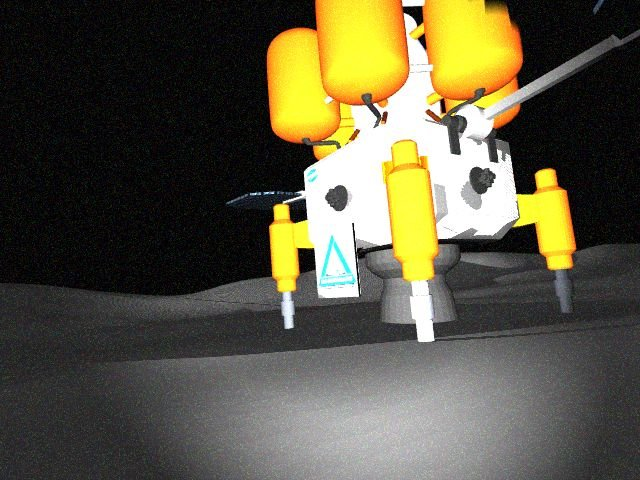basemarker: (318, 234, 357, 290)
